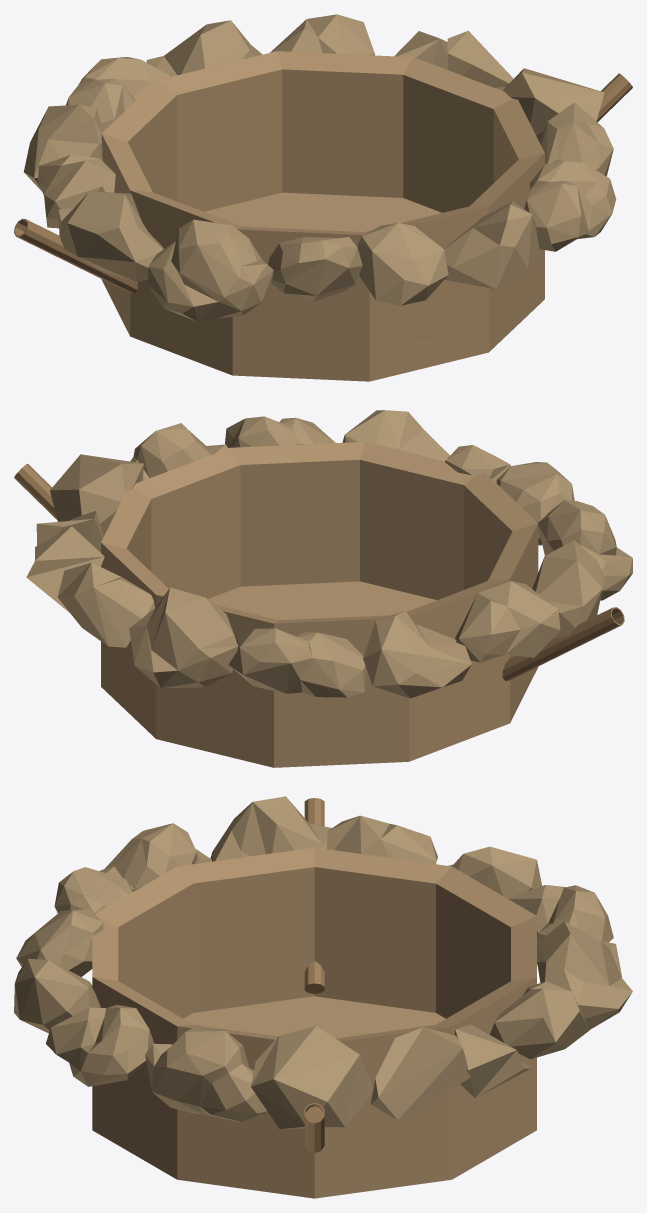
The model's file is Furnace.fbx.
3 renders of one model, top to bottom at view 1: azimuth 30°, elevation 25°; view 2: azimuth 150°, elevation 25°; view 3: azimuth 270°, elevation 25°, orthographic. The views are drawn at different scales.
Parts seen in each view (by area): view 1: pCylinder2, Group63128, pCylinder5, pCylinder4; view 2: pCylinder2, Group63128, pCylinder5, pCylinder4; view 3: pCylinder2, Group63128, pCylinder5, pCylinder4.
Boxes of the visible parts, <box> form: pCylinder2: <box>101,51,544,381</box>; Group63128: <box>24,14,616,321</box>; pCylinder5: <box>14,218,137,293</box>; pCylinder4: <box>596,73,632,122</box>; pCylinder2: <box>101,441,538,767</box>; Group63128: <box>26,410,632,698</box>; pCylinder5: <box>502,607,624,681</box>; pCylinder4: <box>14,463,100,552</box>; pCylinder2: <box>92,847,536,1198</box>; Group63128: <box>14,796,632,1129</box>; pCylinder5: <box>304,798,324,993</box>; pCylinder4: <box>304,1102,324,1152</box>.
Bounding box in the file's own units: 70.09 × 18.82 × 58.24.
